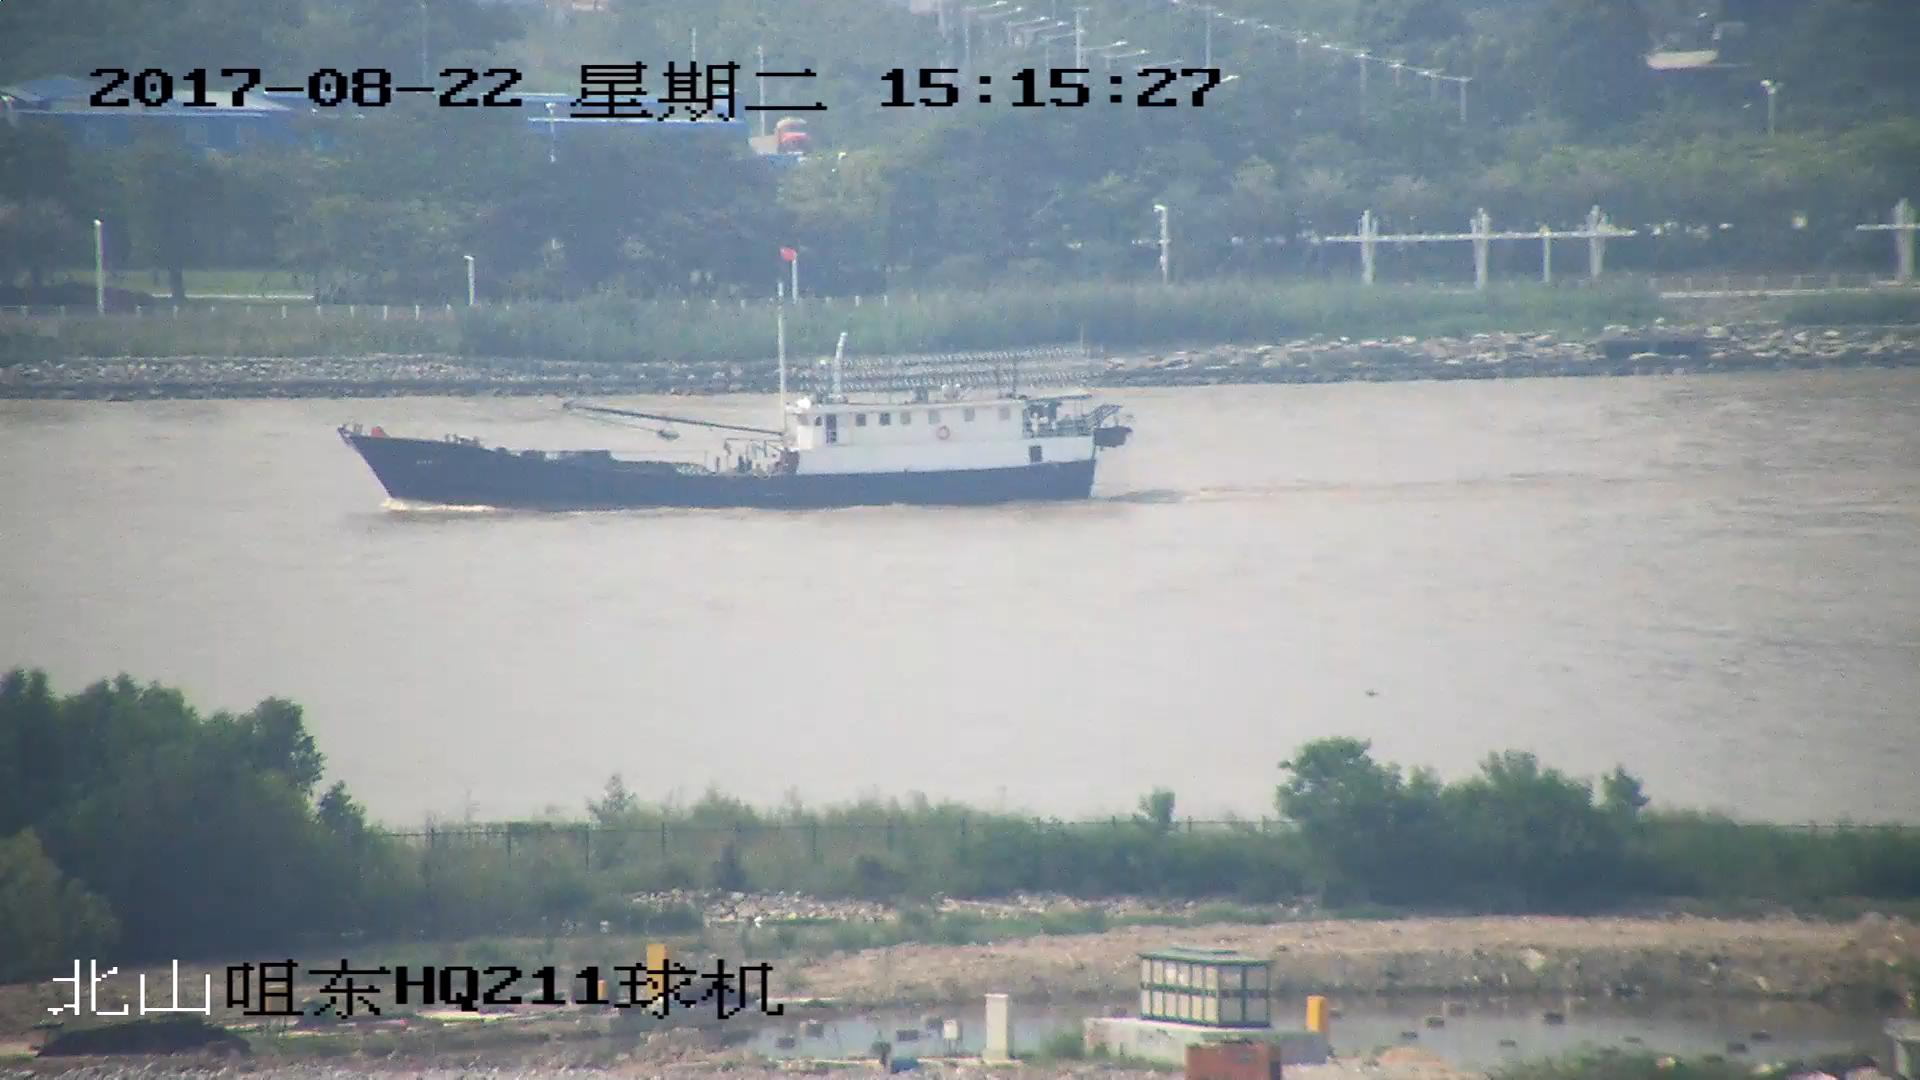fishing boat: (342, 258, 1132, 510)
